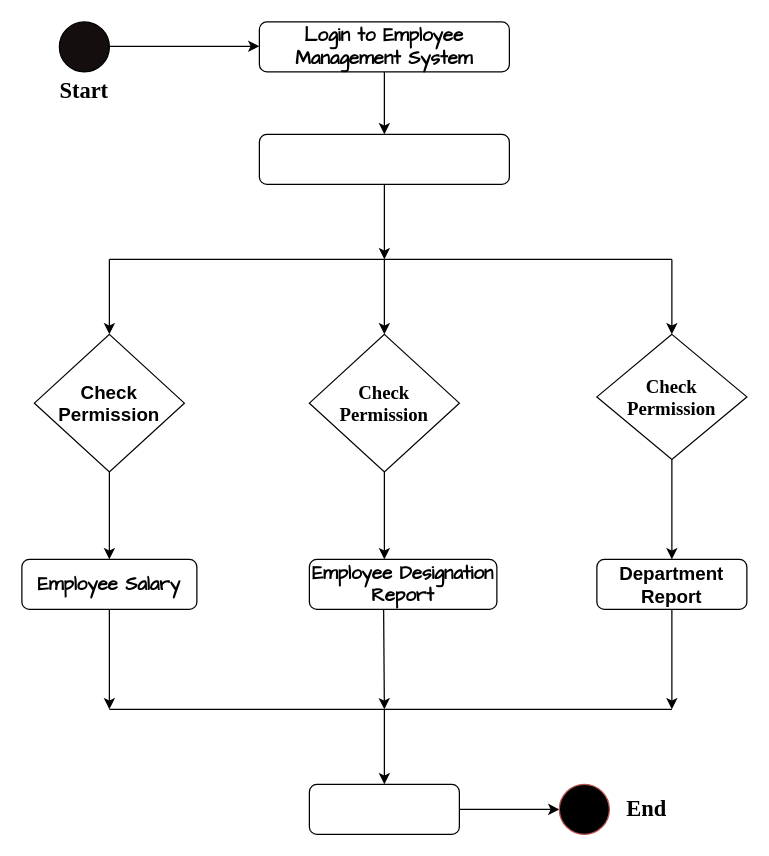
The diagram is 769 pixels wide and 856 high, and some of its shapes have lost their labels. Here are the shapes that lost their labels. From the top down, the centre of each, then its label:
the point at 383,158: Check User level and Permission
the point at 383,808: Logout From System
